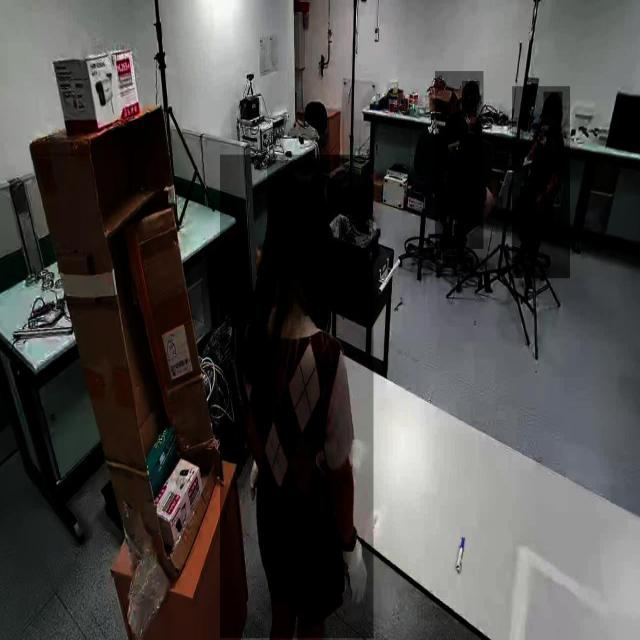face_nomask: (464, 98, 478, 118)
hand_noglove: (533, 126, 546, 145), (467, 108, 477, 130), (528, 195, 538, 213)
head_nohelmet: (267, 160, 331, 224), (543, 92, 563, 108), (462, 81, 480, 96)
person: (220, 155, 374, 639), (512, 86, 570, 279), (435, 71, 484, 250)
